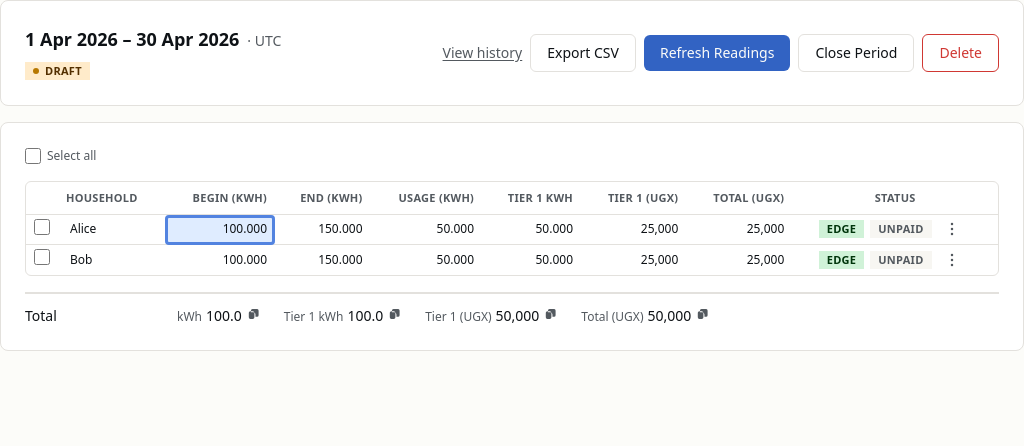
Scenario: BillingTable BC3 — multi-select › 'Clear selection' button empties the selection set
The image size is (1024, 446).
Click the checkbox named "Select Alice" at (42, 227), box [34,219,50,235]
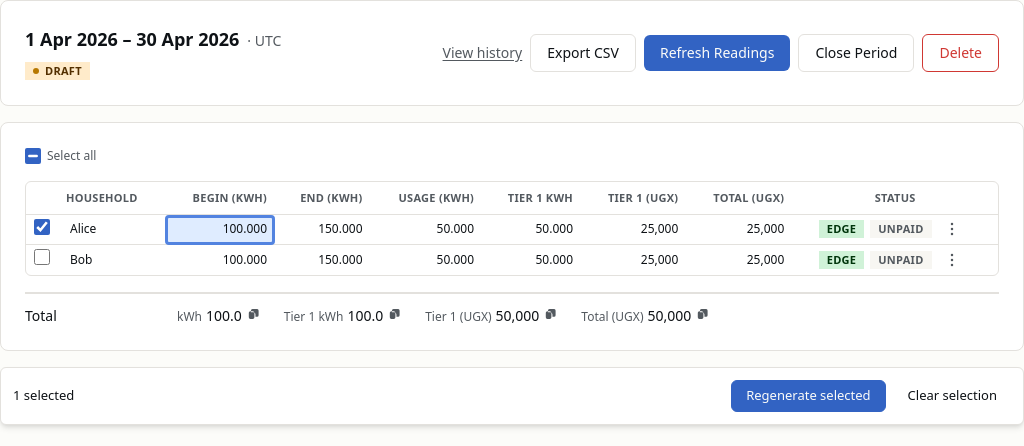
Click the checkbox named "Select Bob" at (42, 257), box [34,249,50,265]
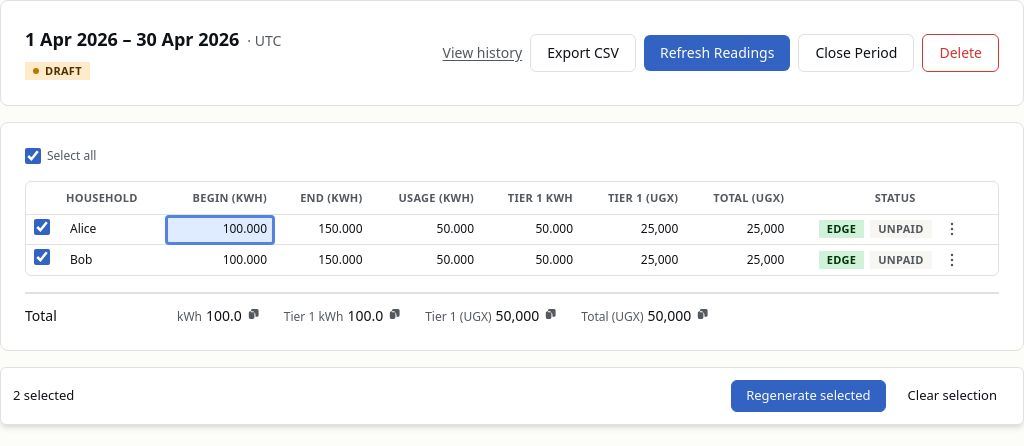
Expected: the element with test id "sticky-selection-bar" is shown, [0,366,1023,424]
Click the button "Clear selection" at (952, 396), box [894,380,1011,412]
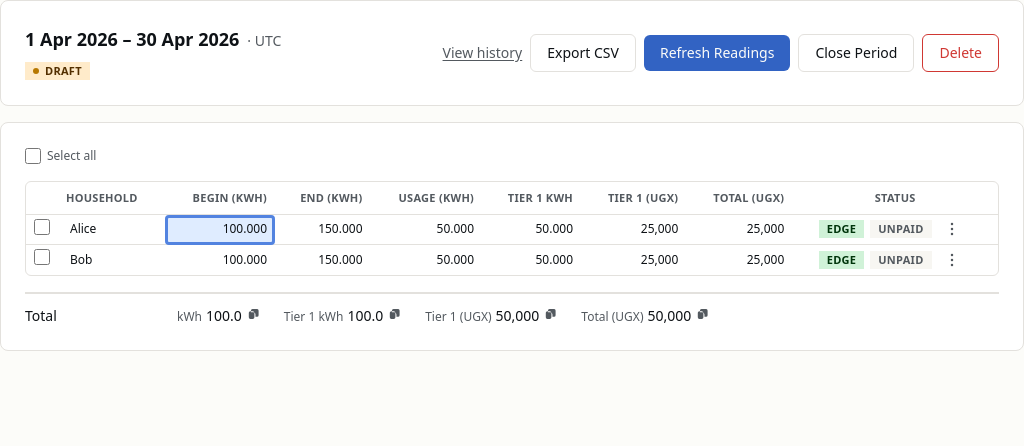
Expected: the element with test id "sticky-selection-bar" is gone
